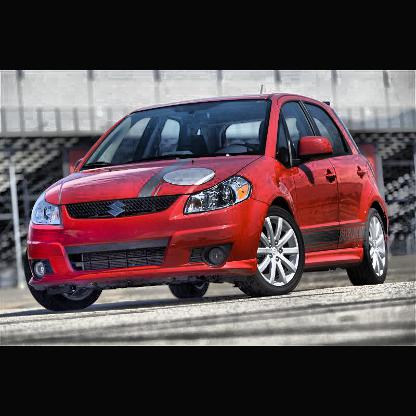Suzuki SX4 Hatchback 2012: (22, 86, 392, 313)
